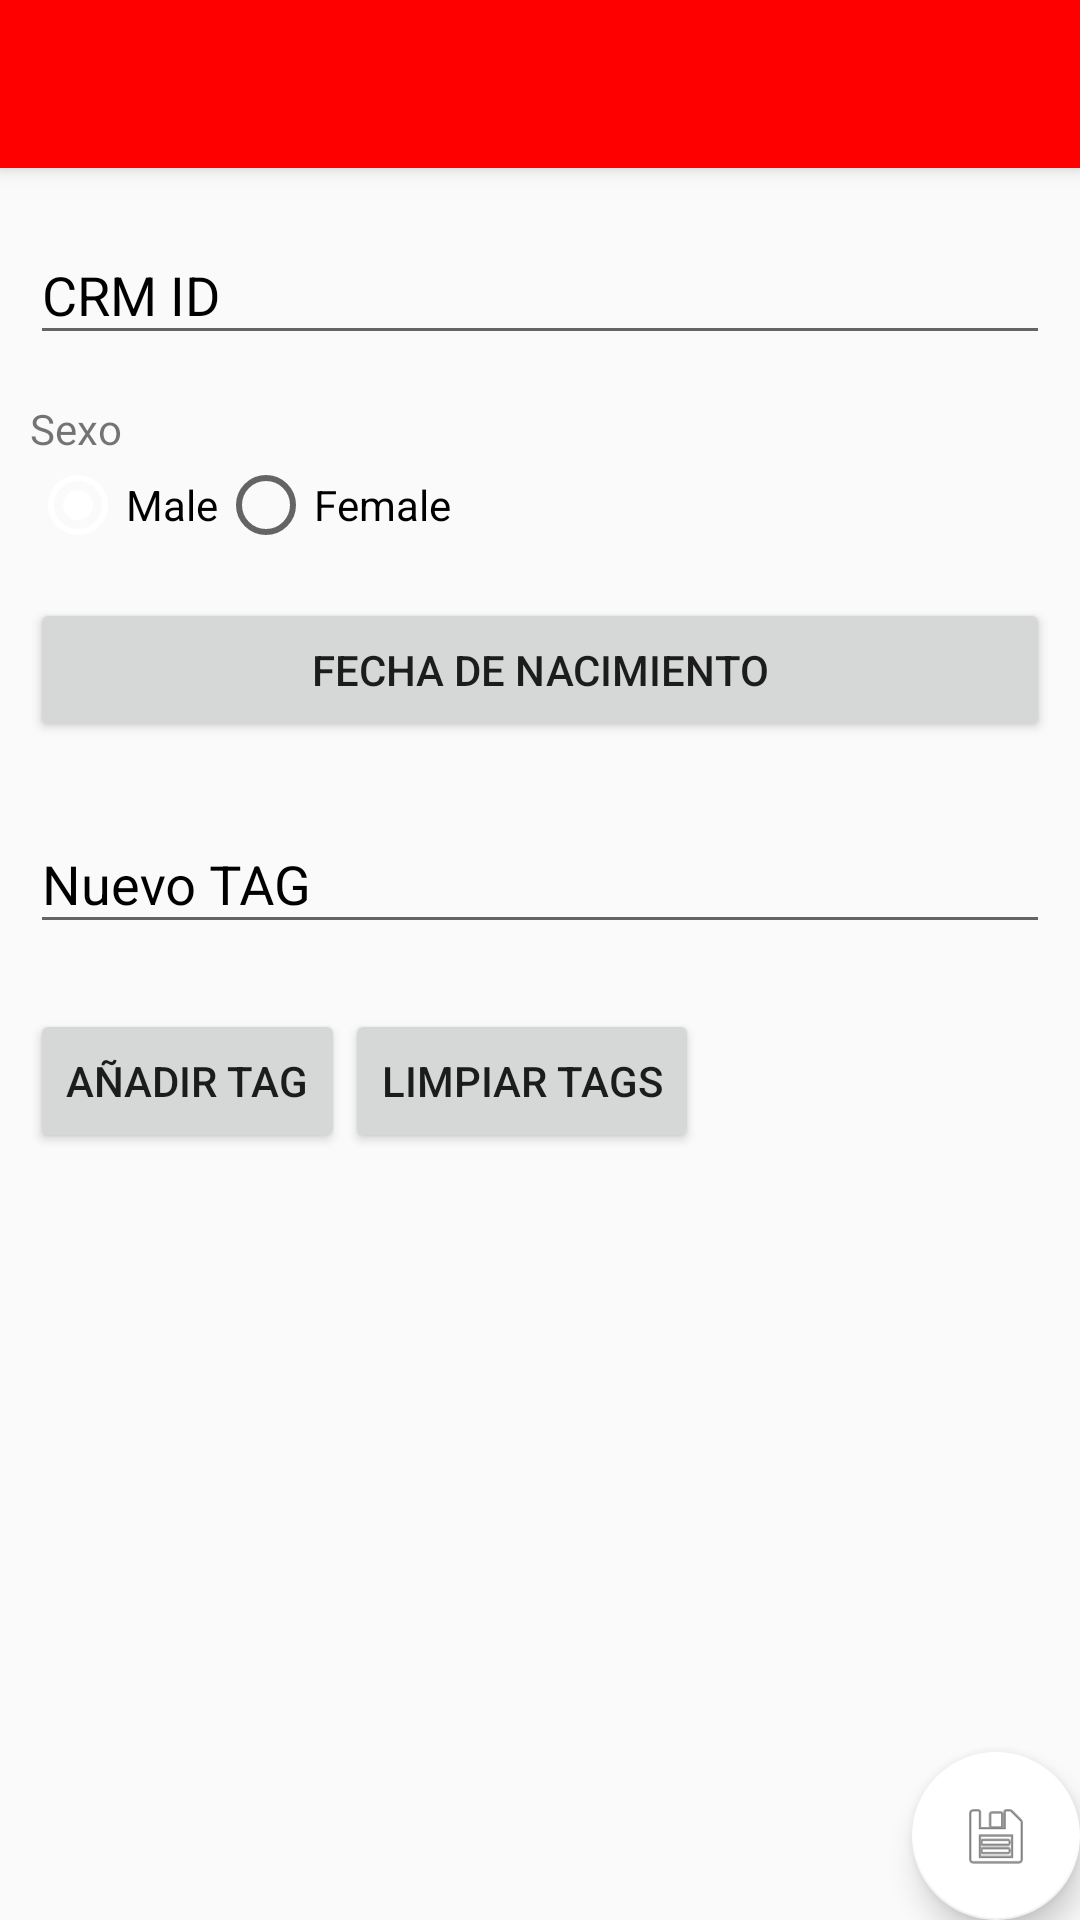

Screen size 1080 x 1920. Icon name, then its box in pixels as [x1=x1, y1=y1, x2=x2, y2=y2]:
save: [x1=918, y1=1809, x2=1080, y2=1920]
